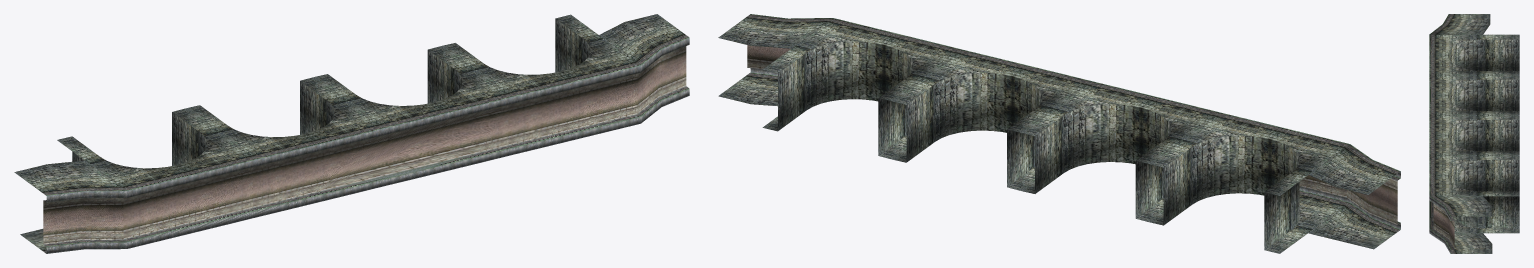
3 views of the same model, side by side, from view 1: azimuth 30°, elevation 25°; view 2: azimuth 150°, elevation 25°; view 3: azimuth 270°, elevation 25° (orthographic). The views are drawn at different scales.
Parts seen in each view (by area): view 1: ICBridgeRamp01_far:3; view 2: ICBridgeRamp01_far:3; view 3: ICBridgeRamp01_far:3.
Boxes of the visible parts, x1,y1,x2,y2 form: ICBridgeRamp01_far:3: [14, 14, 689, 253]; ICBridgeRamp01_far:3: [718, 14, 1400, 253]; ICBridgeRamp01_far:3: [1429, 14, 1519, 253].
Size of the model in its own units: 151 by 13.02 by 28.53.
